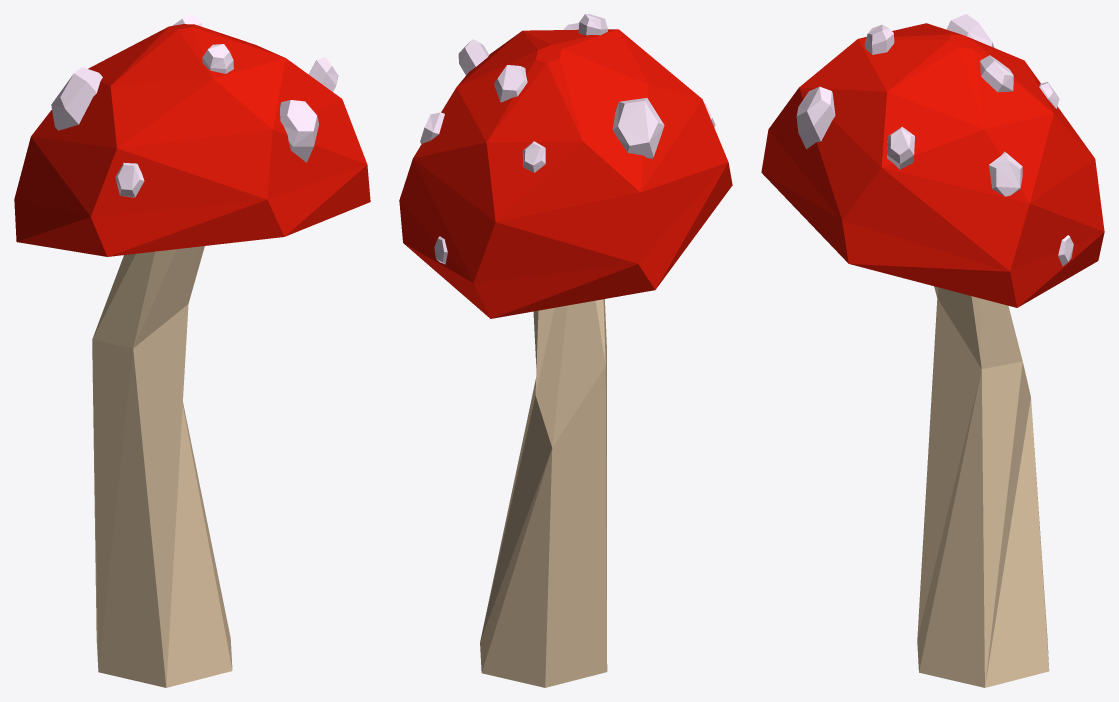
Rendered from Mushroom 6.fbx.
The picture shows the model from 3 angles, left to right: view 1: azimuth 30°, elevation 25°; view 2: azimuth 150°, elevation 25°; view 3: azimuth 270°, elevation 25°; orthographic projection. The views are drawn at different scales.
Visible parts, largest first — view 1: Mushroom 6; view 2: Mushroom 6; view 3: Mushroom 6.
Part boxes in pixels (x1,y1,x2,y2): Mushroom 6: (14, 14, 370, 687); Mushroom 6: (399, 14, 732, 687); Mushroom 6: (761, 14, 1104, 687).
Size of the model in its own units: 0.1413 by 0.3168 by 0.1566.
